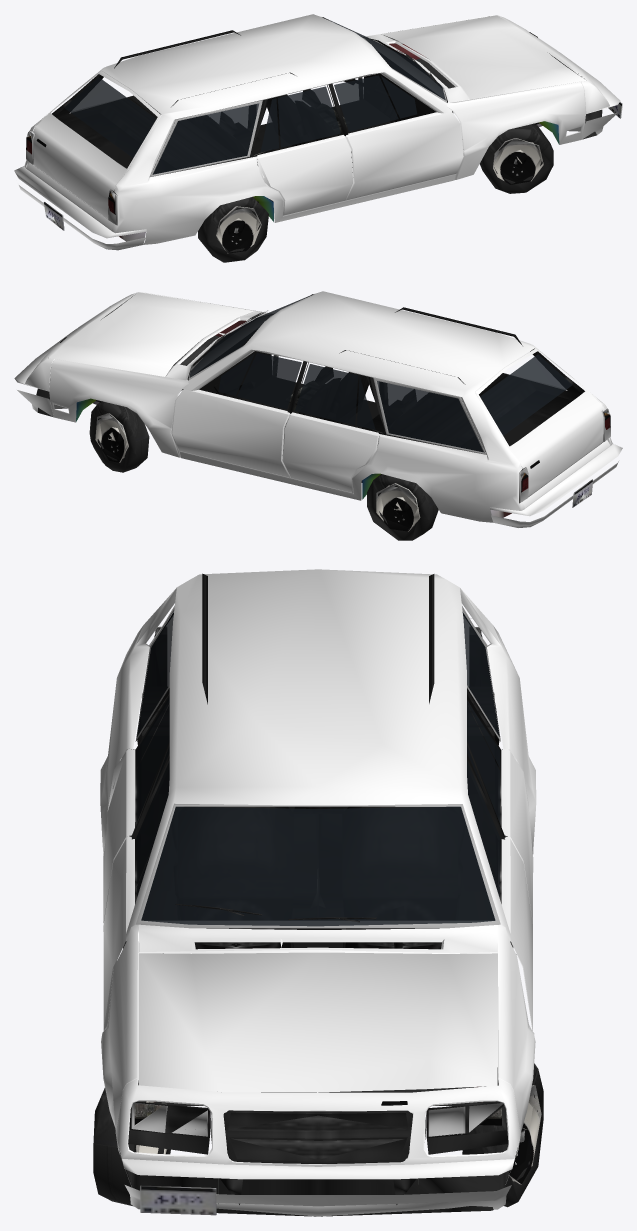
The model's file is car_wagon.glb.
3 renders of one model, top to bottom at view 1: azimuth 30°, elevation 25°; view 2: azimuth 150°, elevation 25°; view 3: azimuth 270°, elevation 25°, orthographic. The views are drawn at different scales.
Visible parts, largest first — view 1: paint, body, glass; view 2: paint, body, glass; view 3: paint, body, glass.
Boxes of the visible parts, x1,y1,x2,y2 form: paint: (14,14,620,250); body: (26,17,622,262); glass: (64,18,445,174); paint: (14,291,622,527); body: (36,294,610,540); glass: (189,294,572,452); paint: (100,569,536,1216); body: (93,573,543,1216); glass: (136,612,500,926).
Bounding box in the file's own units: 5.28 × 1.5 × 1.95.
2 materials, 1 textured.
